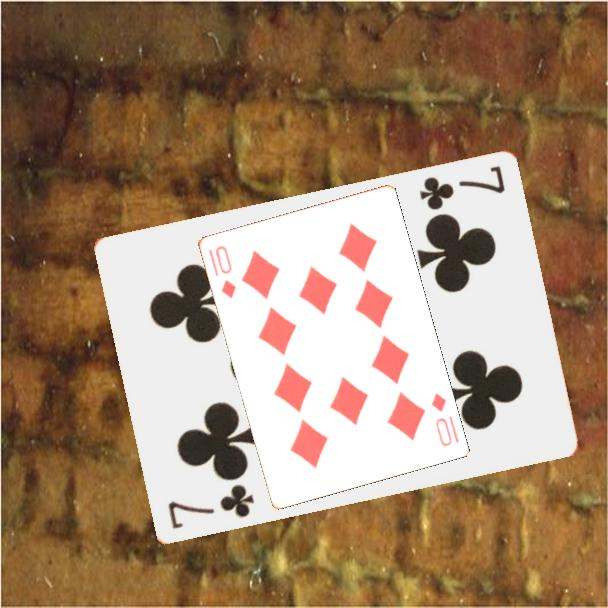c07: (164, 481, 257, 532), (415, 163, 508, 214)
d10: (427, 389, 462, 449), (211, 242, 239, 301)
